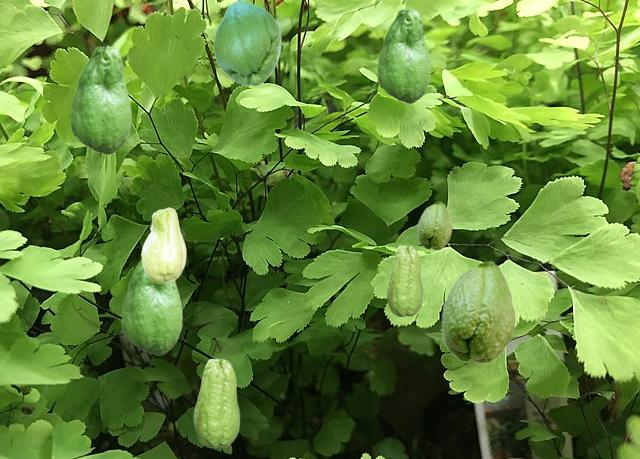sayote: (441, 260, 515, 363), (70, 45, 130, 153), (121, 259, 181, 354), (213, 0, 280, 85), (377, 8, 429, 102), (193, 358, 239, 447), (141, 207, 185, 283), (386, 245, 422, 316), (417, 201, 451, 249)
